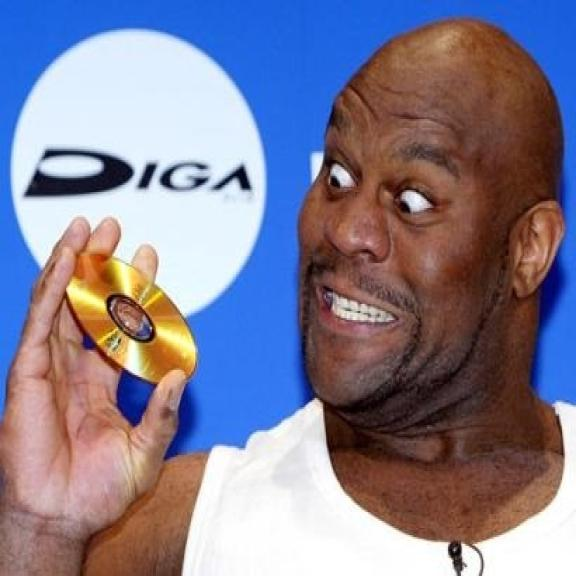face: (289, 13, 568, 415)
